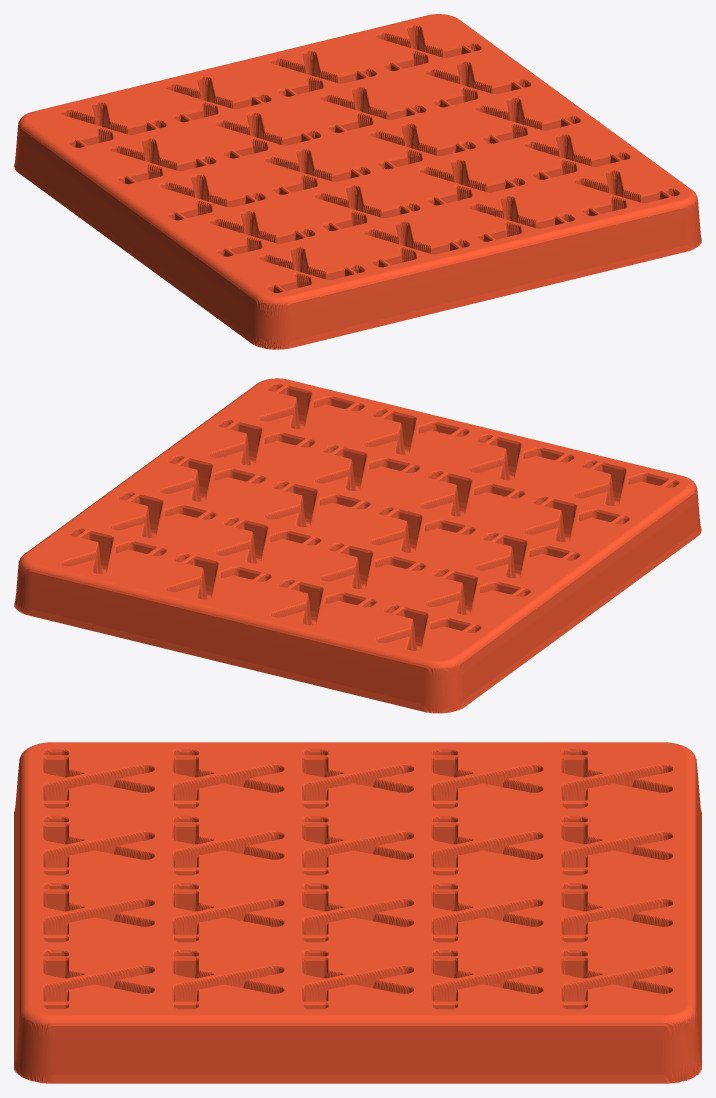
Rendered from mold.glb.
3 renders of one model, top to bottom at view 1: azimuth 30°, elevation 25°; view 2: azimuth 150°, elevation 25°; view 3: azimuth 270°, elevation 25°, orthographic. The views are drawn at different scales.
Visible parts, largest first — view 1: geometry_0; view 2: geometry_0; view 3: geometry_0.
Part boxes in pixels (bbox=[...]): geometry_0: bbox=[14, 14, 701, 349]; geometry_0: bbox=[14, 378, 701, 713]; geometry_0: bbox=[14, 742, 701, 1083].
Bounding box in the file's own units: 0.1563 × 0.0159 × 0.1595.
